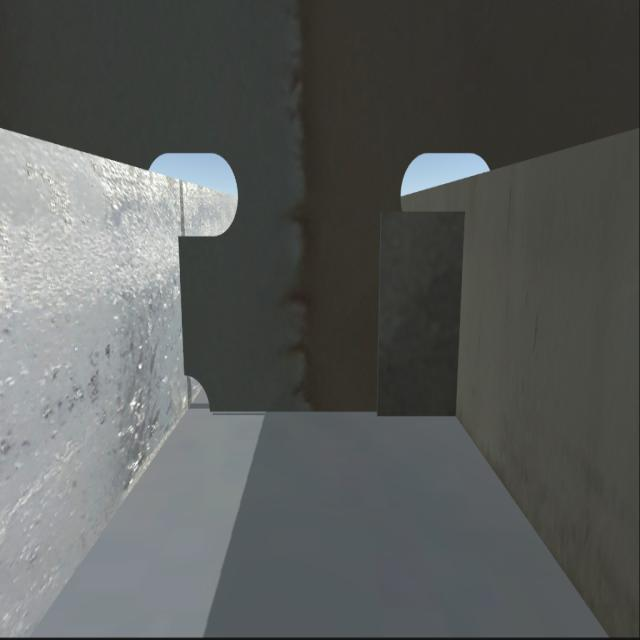fillet_hole: (178, 376, 210, 412)
fillet_yong_jeop_jang: (209, 403, 459, 418)
longi_yong_jeop_jang: (454, 208, 466, 414)
plate_CP01: (370, 215, 458, 422)
